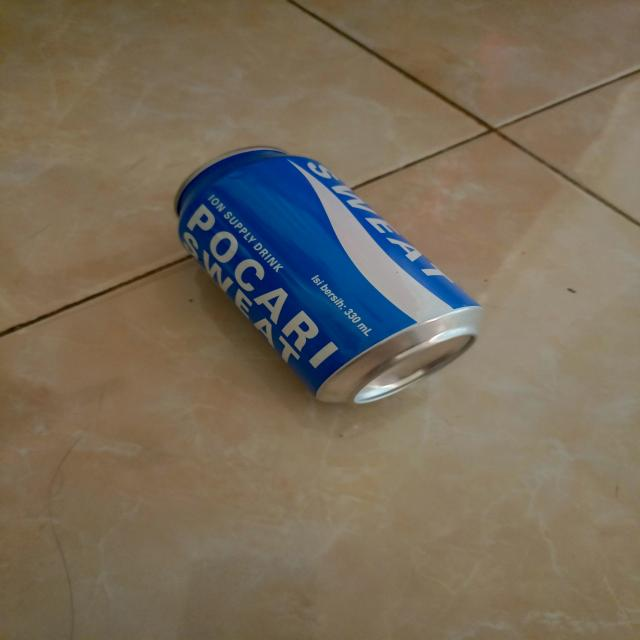pocari-sweat: (172, 146, 482, 405)
